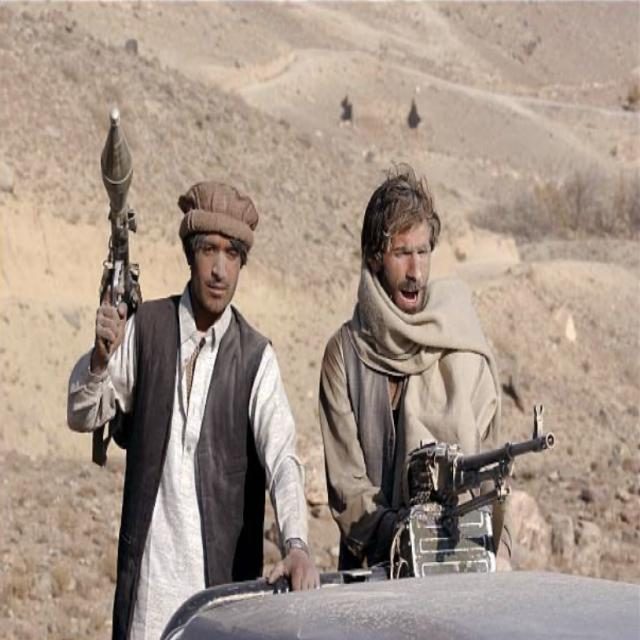bazooka: (88, 91, 150, 482)
